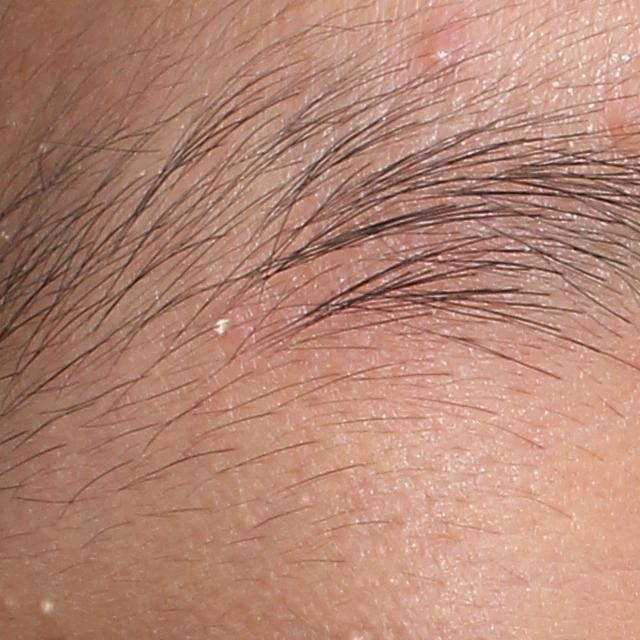comedo: (2, 593, 19, 614)
other: (36, 598, 54, 615)
